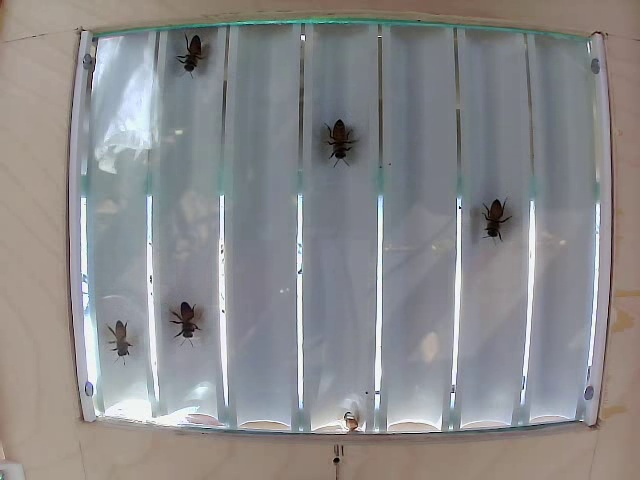bee: (329, 120, 373, 172), (472, 193, 510, 249), (98, 321, 144, 364), (170, 37, 223, 74), (167, 301, 211, 344)
